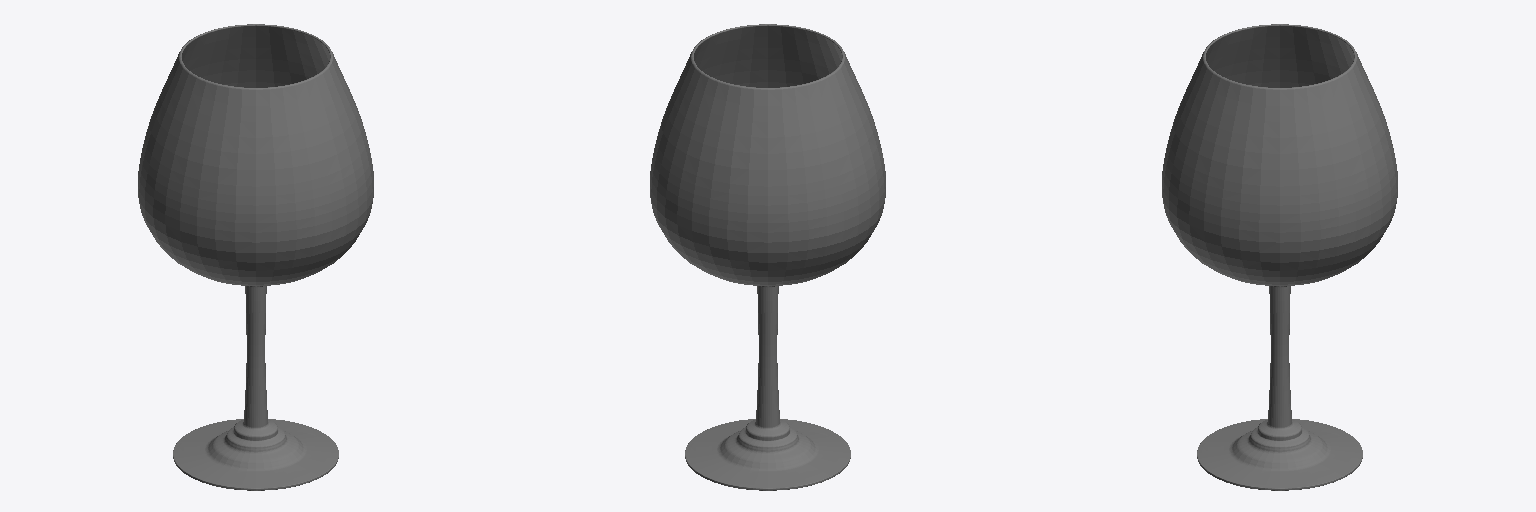
Rendered from cup.obj.
3 renders of one model, left to right at view 1: azimuth 30°, elevation 25°; view 2: azimuth 150°, elevation 25°; view 3: azimuth 270°, elevation 25°, orthographic.
Parts seen in each view (by area): view 1: cup:arch19_062_00; view 2: cup:arch19_062_00; view 3: cup:arch19_062_00.
Boxes of the visible parts, <box> form: cup:arch19_062_00: <box>138,24,373,490</box>; cup:arch19_062_00: <box>650,24,885,490</box>; cup:arch19_062_00: <box>1162,24,1397,490</box>.
Bounding box in the file's own units: 0.3544 × 0.6593 × 0.3542.